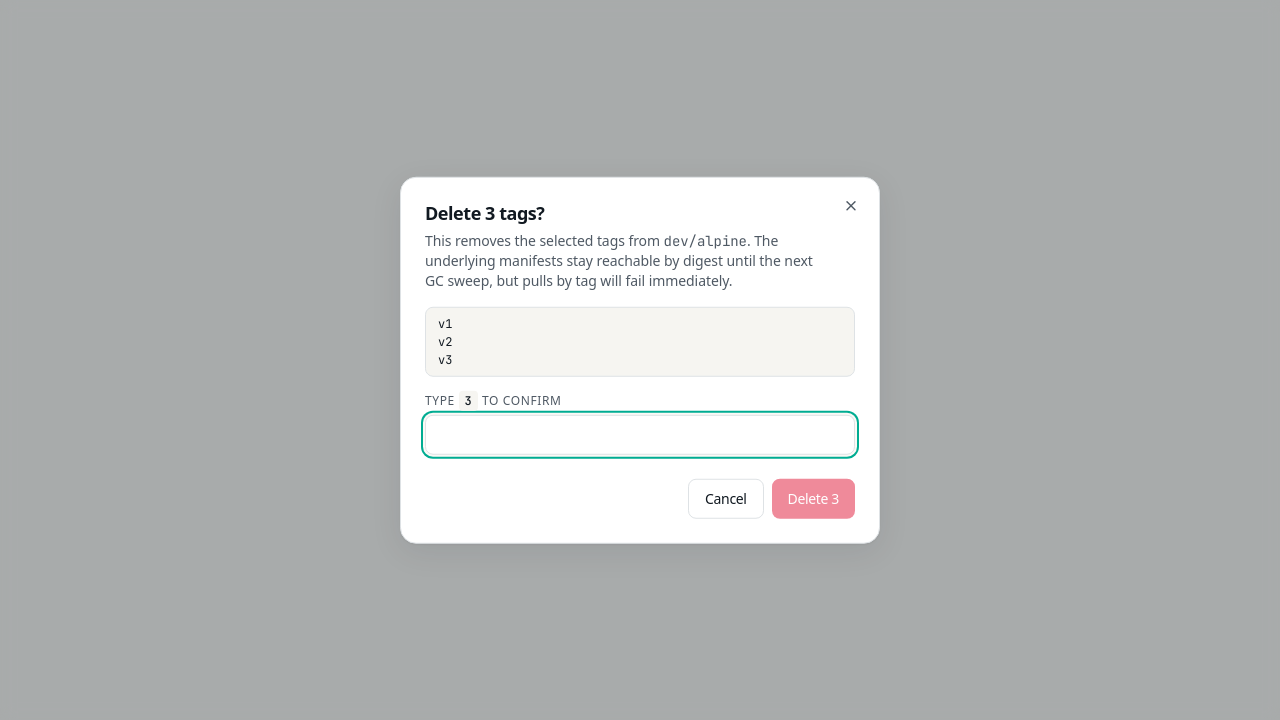
Test: BulkDeleteTagsDialog confirm gate › multi-tag delete still asks for the count
Type "v1" into the field labelled "Type 3 to confirm" at {"x": 640, "y": 434}, box [425, 414, 855, 454]
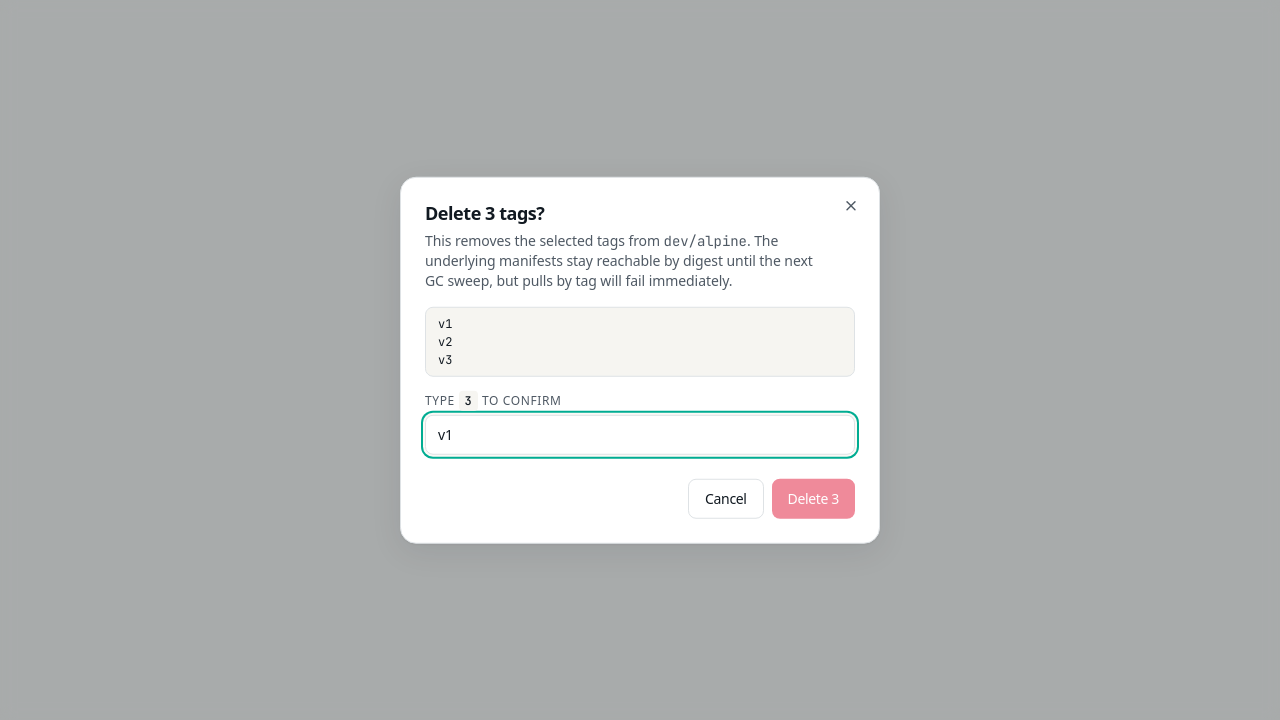
Expected: the button "Delete 3" is disabled, [772, 478, 855, 518]
Replace the text in the field labelled "Type 3 to confirm" with "3" at {"x": 640, "y": 434}, box [425, 414, 855, 454]
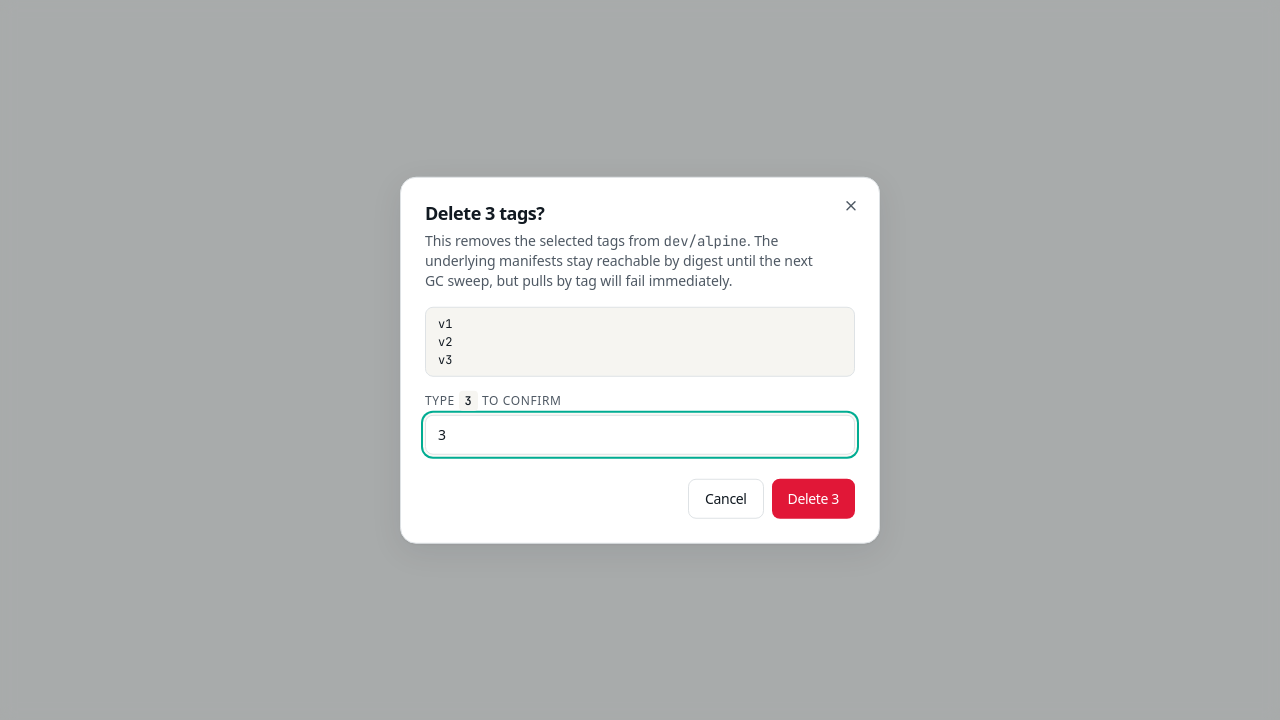
Result: the button "Delete 3" is enabled at [772, 478, 855, 518]
